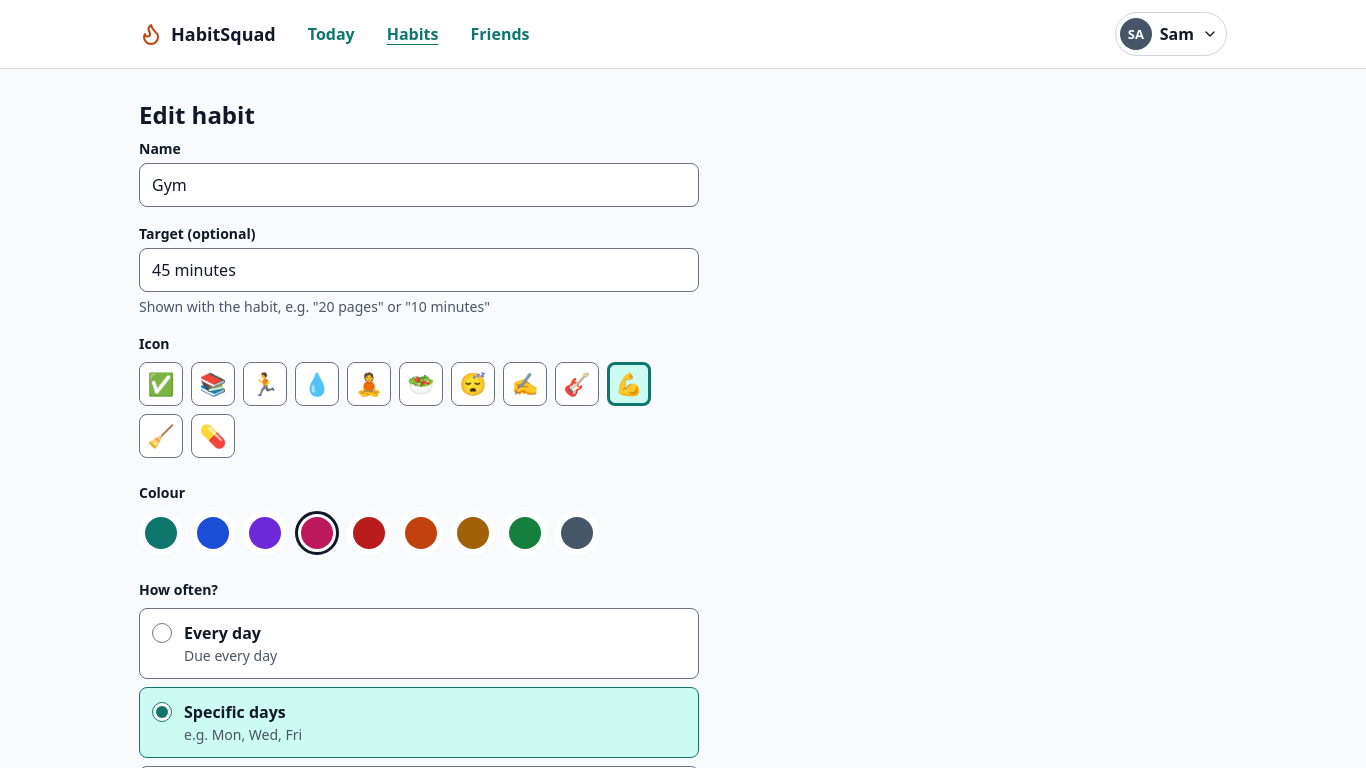
Test: EditHabitPage › saves the changes and goes back to the habit's page with a message
Replace the text in the field labelled "Name" with "Gym session": (419, 185) [140,165,698,205]
(page scrolled)
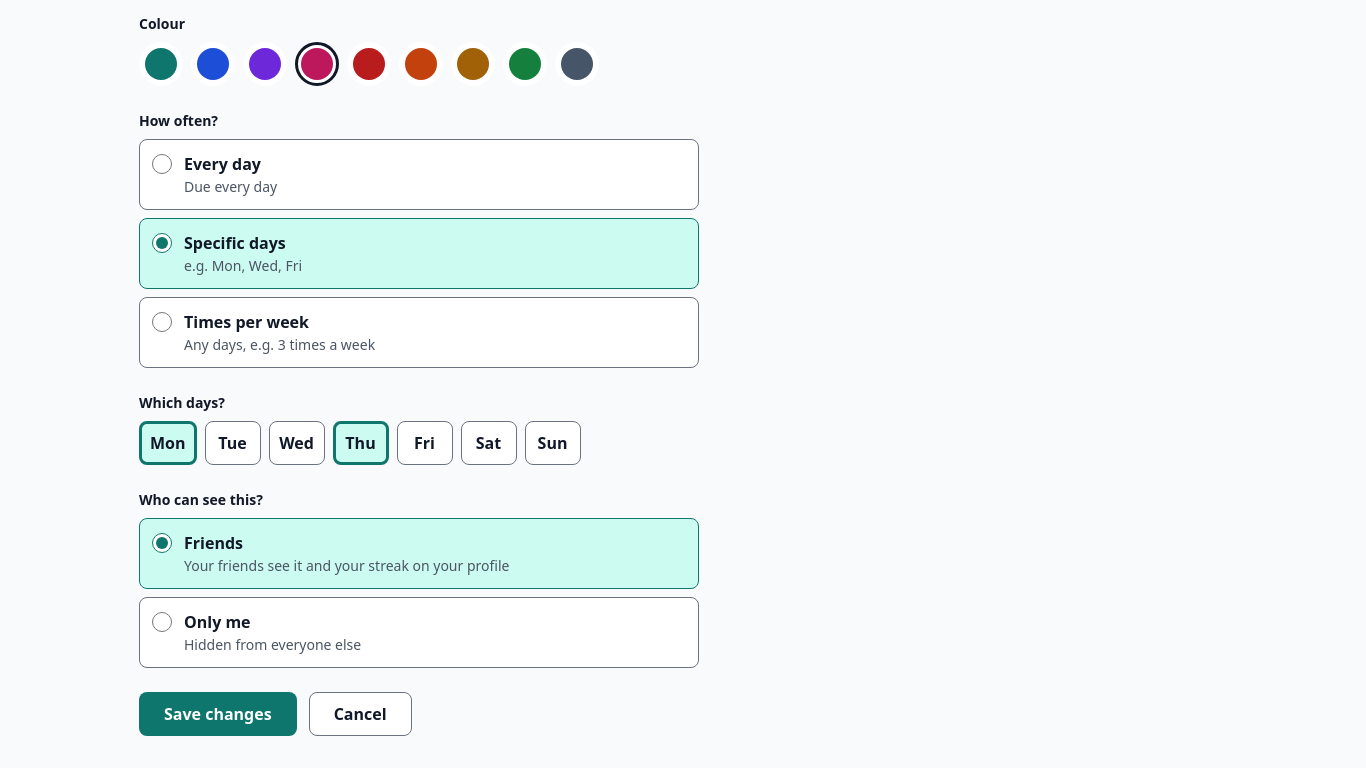
Click the checkbox named "Friday": (424, 443) [396,421,452,465]
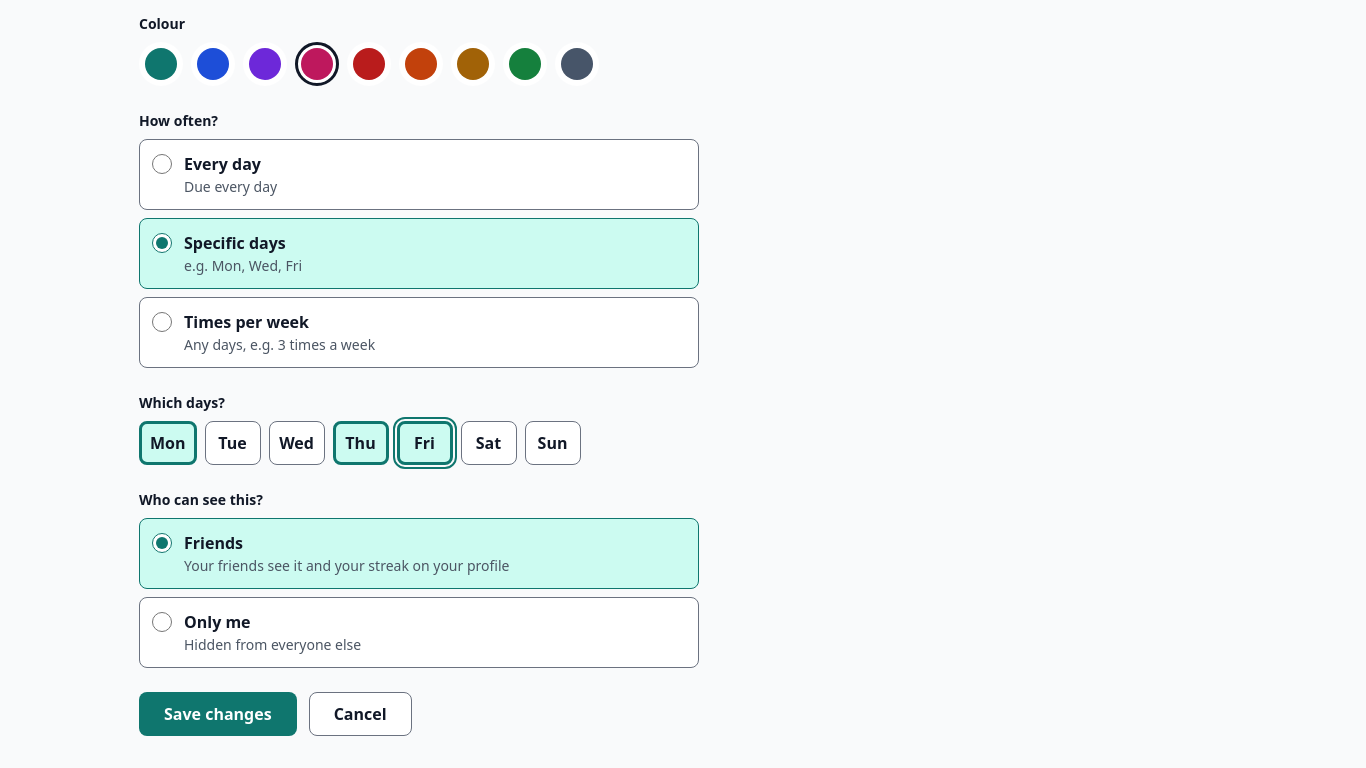
Click the button "Save changes": (218, 714) [139,692,297,736]
(page scrolled)
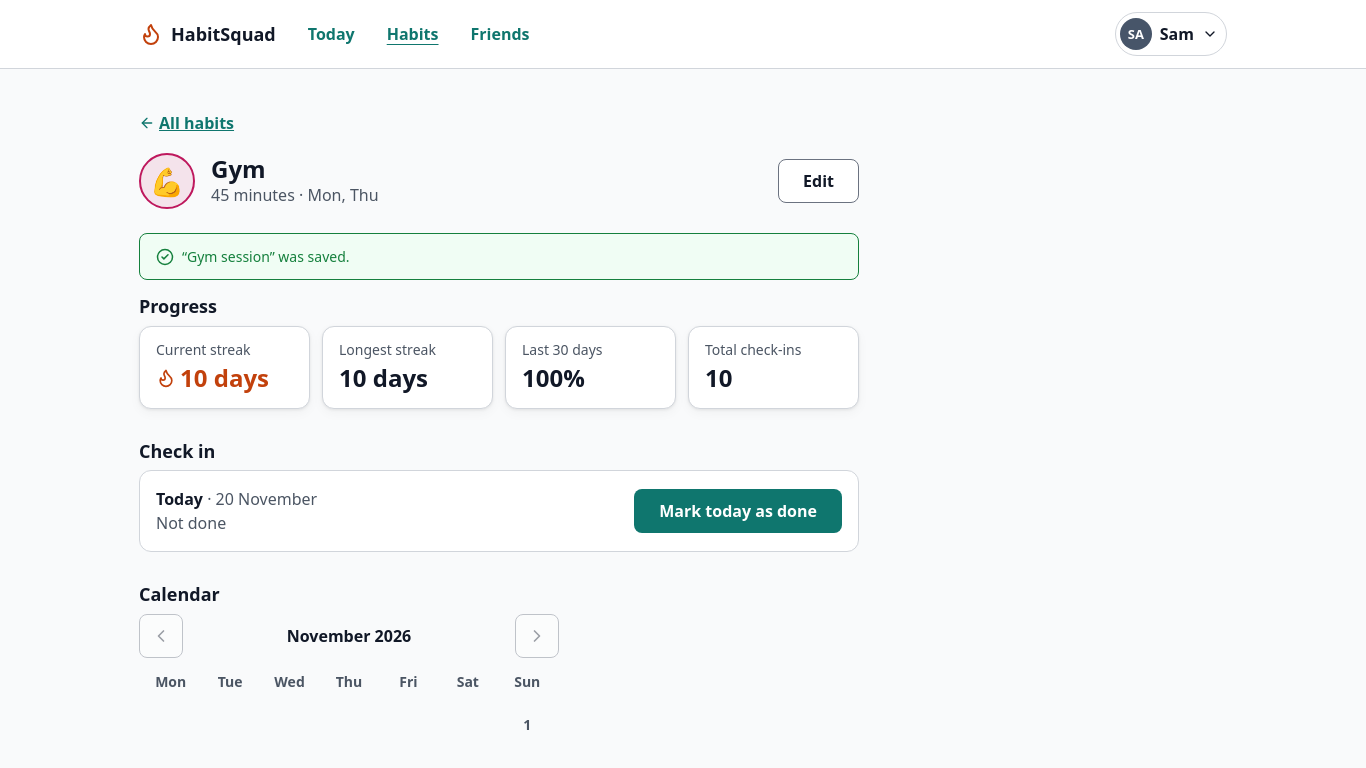
Result: the heading "Progress" is shown at [139,294,217,318]
Result: the message reads "“Gym session” was saved." at [182,247,350,266]
